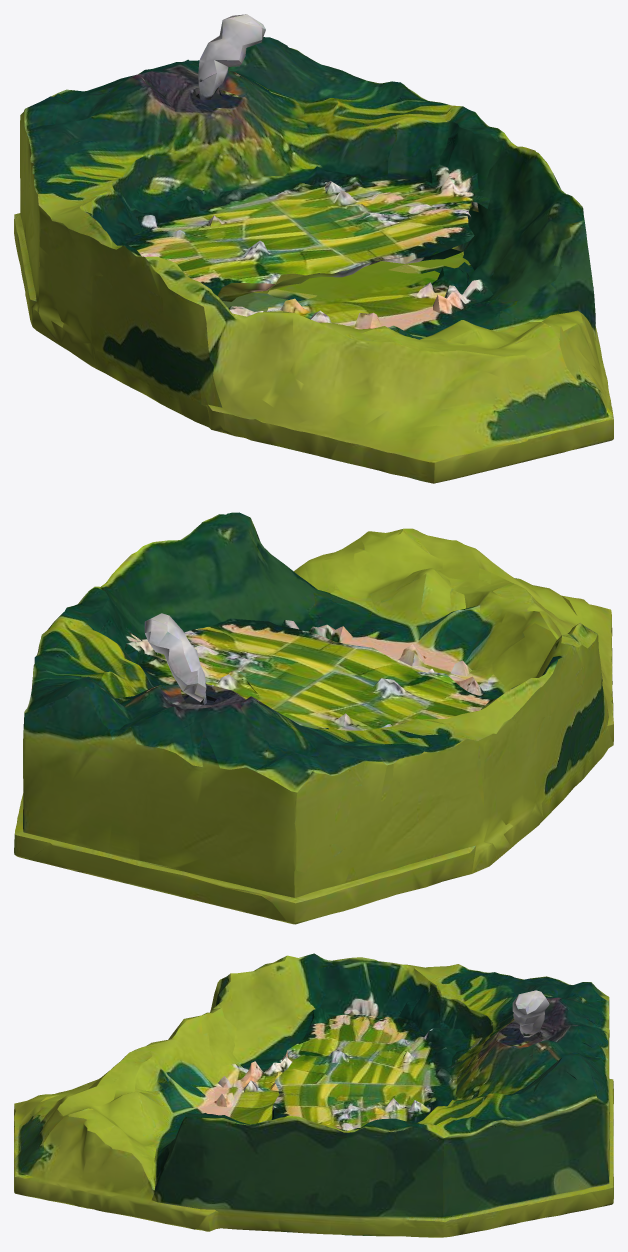
File: aso-daikanbo.glb
The picture shows the model from 3 angles, top to bottom: view 1: azimuth 30°, elevation 25°; view 2: azimuth 150°, elevation 25°; view 3: azimuth 270°, elevation 25°; orthographic projection. The views are drawn at different scales.
Visible parts, largest first — view 1: logan-textured.obj; view 2: logan-textured.obj; view 3: logan-textured.obj.
Boxes of the visible parts, box(x1,y1,x2,y2) form: logan-textured.obj: box(14, 14, 613, 483); logan-textured.obj: box(14, 512, 613, 924); logan-textured.obj: box(14, 953, 613, 1237).
Size of the model in its own units: 0.6895 by 0.3239 by 1.
1 material, 1 textured.
